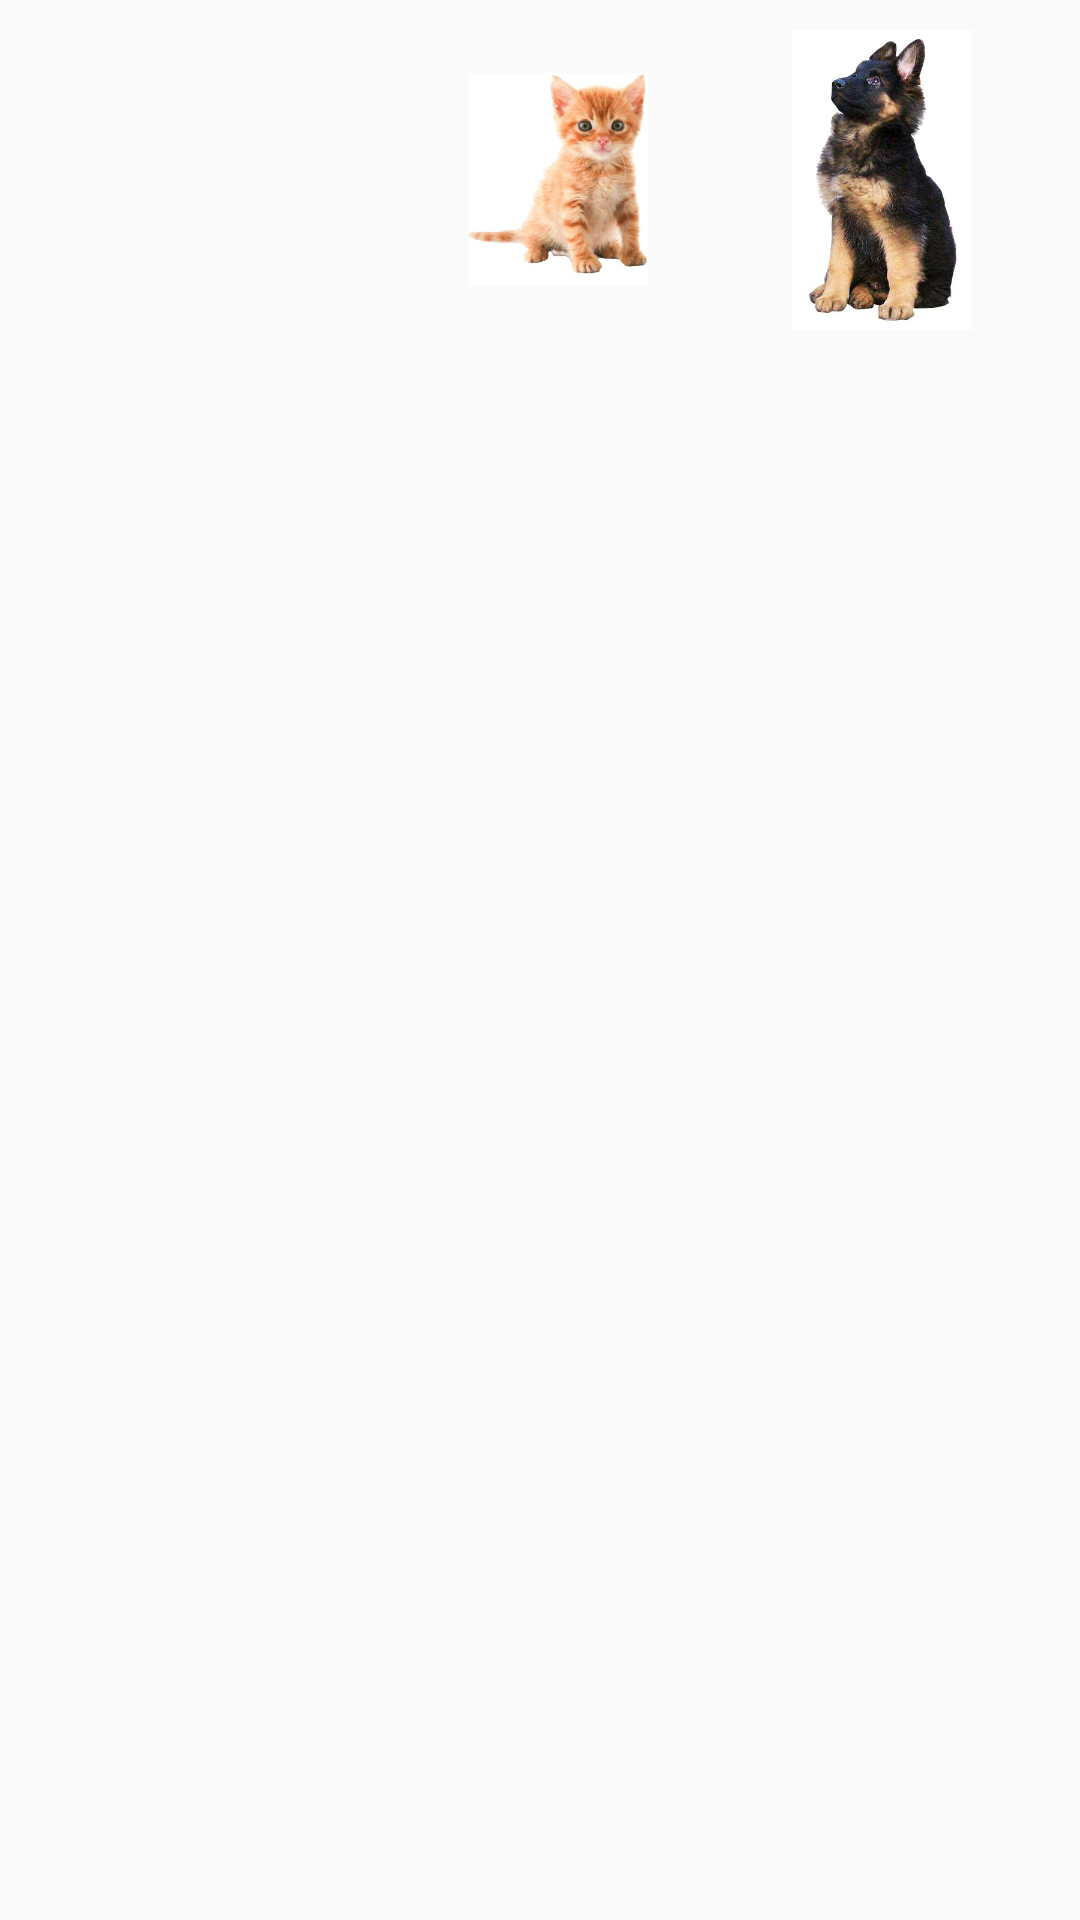

Icons on this 1080*1920 Android screen, each with the point to tap as [x,y]:
cat: [557,173]
dog: [883,180]
